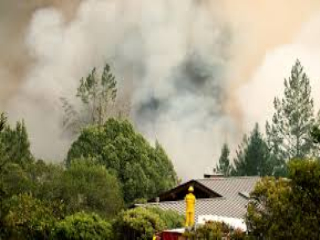smoke: (20, 14, 303, 165)
